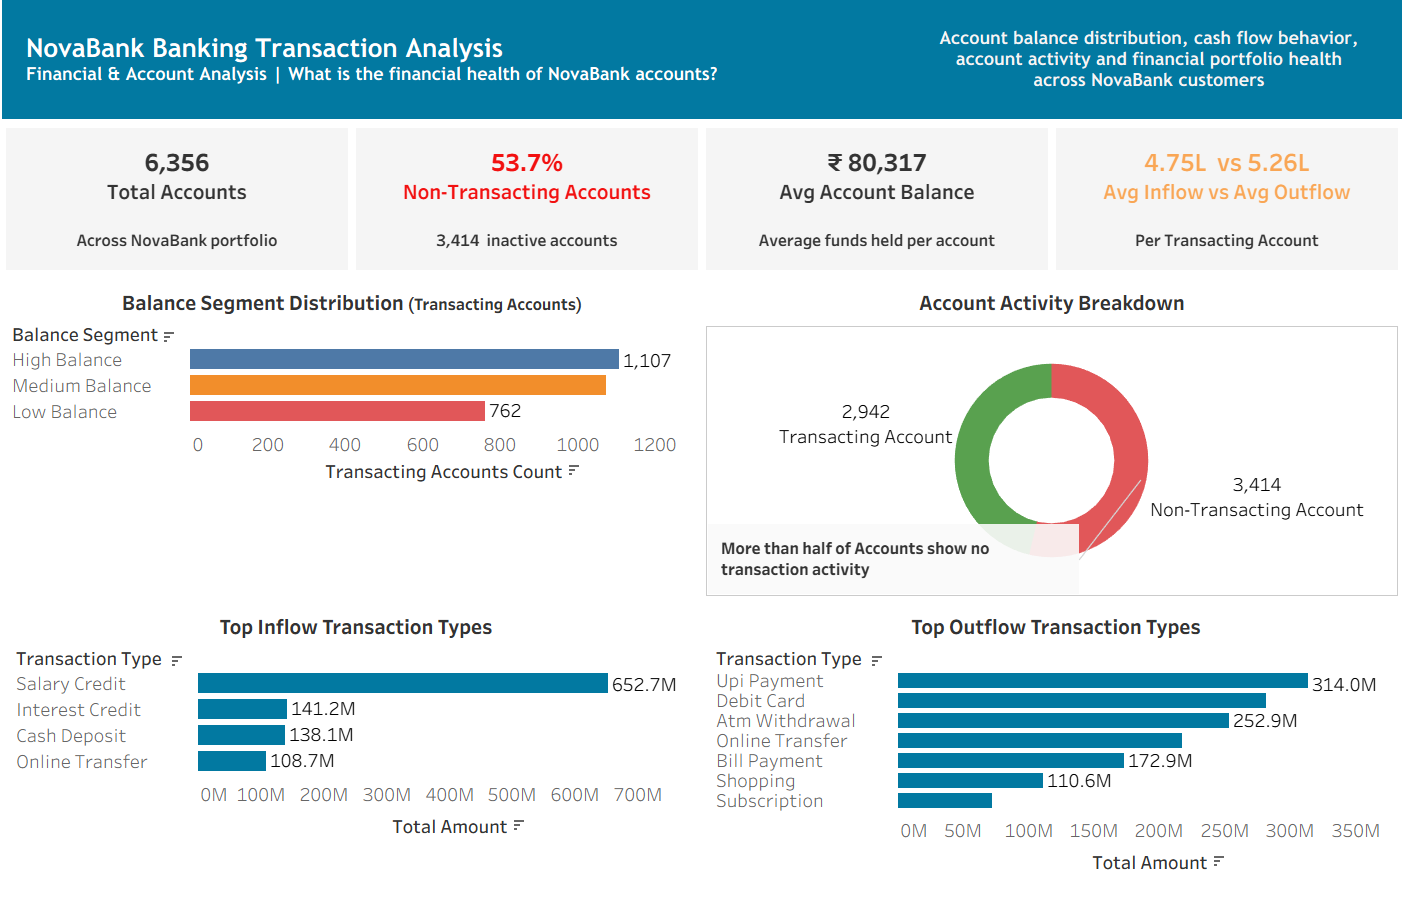

The dashboard page shown, as its layout file describes it:
{"tool":"tableau","page":{"name":"Dashboard 5: Financial & Account Analysis","canvas":[1400,900],"ordinal":4},"visuals":[{"type":"legend","title":"Account Activity Breakdown","param":"[federated.0pmkvvu0vxlzjg1121hlv11tvan9].[none:Calculation_0119576338829312:nk]","box":[0,0,1400,84]},{"type":"text","box":[16,16,894,93]},{"type":"text","box":[910,16,474,93]},{"type":"worksheet","title":"KPI 1 — Total Accounts","mark":"Automatic","box":[0,125,350,155]},{"type":"worksheet","title":"KPI 2 — Non-Transacting Accounts %","mark":"Automatic","box":[350,125,350,155]},{"type":"worksheet","title":"KPI 3 — Average Account Balance","mark":"Automatic","box":[700,125,350,155]},{"type":"worksheet","title":"KPI 4 — Avg Inflow vs Outflow","mark":"Automatic","box":[1050,125,350,155]},{"type":"worksheet","title":"Balance Segment Distribution","mark":"Automatic","rows":["balance_segment"],"cols":["account_number"],"box":[0,281,700,320]},{"type":"worksheet","title":"Account Activity Breakdown","mark":"Pie","rows":["Calculation_0224854108131328","Calculation_0224854108131328"],"box":[700,281,700,320]}]}

Visuals, with their boxes in screenshot pixels (x1, y1, x2, y2), scaled from the page's 1400x900 canvas onto the 1404x905 screenshot:
"Account Activity Breakdown" legend: (x1=0, y1=0, x2=1403, y2=84)
text: (x1=16, y1=16, x2=913, y2=110)
text: (x1=913, y1=16, x2=1388, y2=110)
"KPI 1 — Total Accounts" worksheet: (x1=0, y1=126, x2=351, y2=282)
"KPI 2 — Non-Transacting Accounts %" worksheet: (x1=351, y1=126, x2=702, y2=282)
"KPI 3 — Average Account Balance" worksheet: (x1=702, y1=126, x2=1053, y2=282)
"KPI 4 — Avg Inflow vs Outflow" worksheet: (x1=1053, y1=126, x2=1403, y2=282)
"Balance Segment Distribution" worksheet: (x1=0, y1=283, x2=702, y2=604)
"Account Activity Breakdown" worksheet (Pie marks): (x1=702, y1=283, x2=1403, y2=604)
